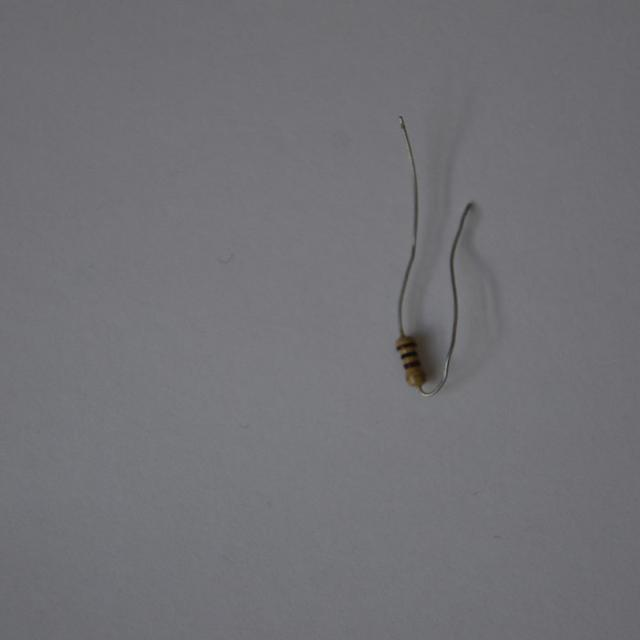black: (400, 352, 416, 358)
brown: (397, 341, 415, 349), (404, 360, 419, 368)
gold: (406, 371, 423, 381)
resistor: (385, 326, 434, 395)
